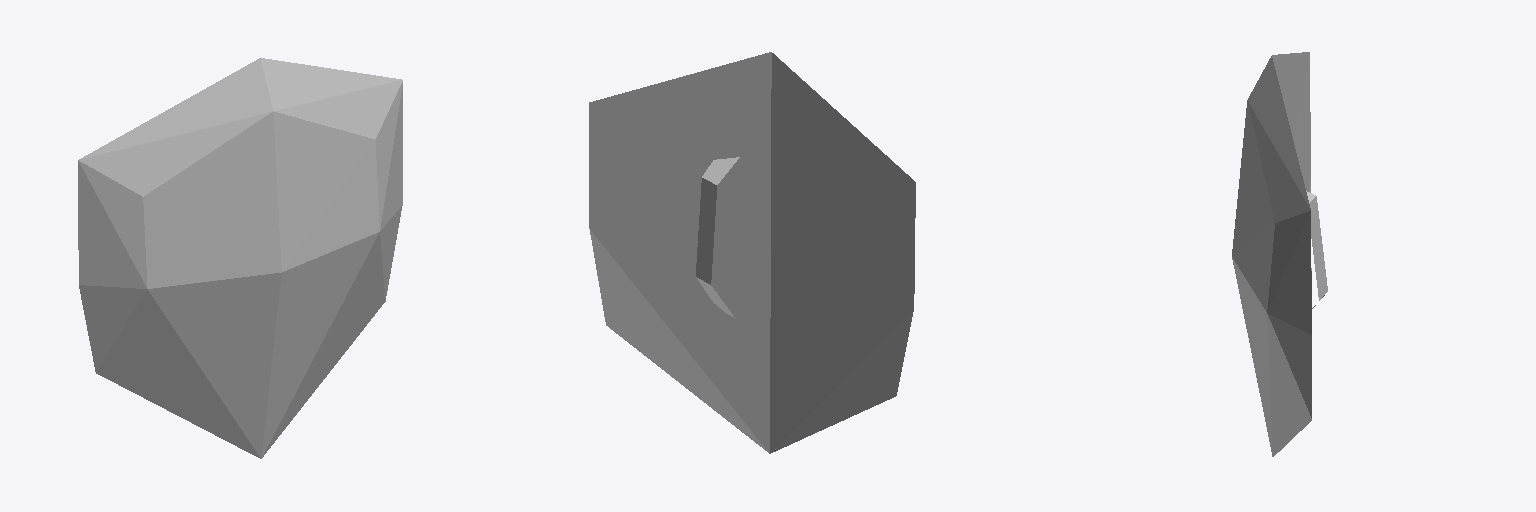
The model's file is Hero's Shield.obj.
3 renders of one model, left to right at view 1: azimuth 30°, elevation 25°; view 2: azimuth 150°, elevation 25°; view 3: azimuth 270°, elevation 25°, orthographic.
Parts seen in each view (by area): view 1: DrawCall_18_mater.026; view 2: DrawCall_18_mater.026; view 3: DrawCall_18_mater.026.
Boxes of the visible parts, <box> form: DrawCall_18_mater.026: <box>78,58,402,458</box>; DrawCall_18_mater.026: <box>589,52,915,453</box>; DrawCall_18_mater.026: <box>1232,52,1327,456</box>.
Bounding box in the file's own units: 2.32 × 2.74 × 0.5941.